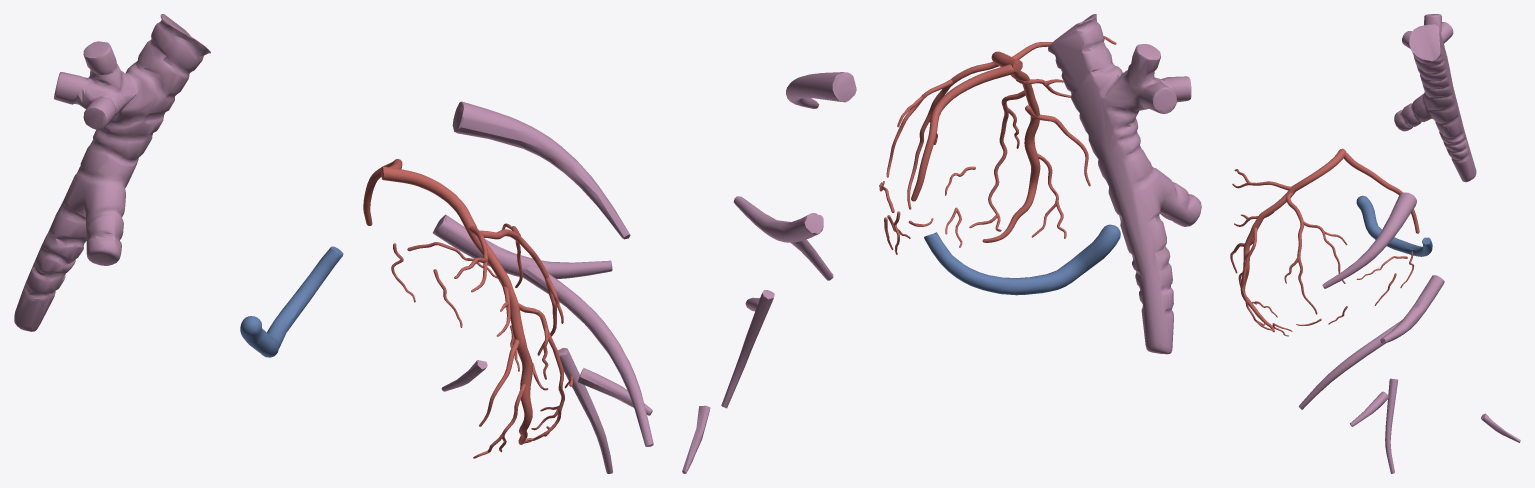
Rendered from thorax-7.glb.
3 views of the same model, side by side, from view 1: azimuth 30°, elevation 25°; view 2: azimuth 150°, elevation 25°; view 3: azimuth 270°, elevation 25° (orthographic). The views are drawn at different scales.
Parts seen in each view (by area): view 1: FJ2539, FJ2540, FJ2631, FJ2536, FJ2655, FJ2535, FJ2538, FJ2537, FJ2642, FJ2635; view 2: FJ2539, FJ2655, FJ2631, FJ2540, FJ2535, FJ2649, FJ2538, FJ2642, FJ2635, FJ2534, FJ2536; view 3: FJ2539, FJ2540, FJ2631, FJ2655, FJ2535, FJ2536, FJ2538, FJ2649, FJ2642, FJ2537, FJ2635.
Boxes of the visible parts, box(x1,y1,x2,y2) form: FJ2539: box(14, 14, 210, 331); FJ2540: box(452, 101, 630, 239); FJ2631: box(381, 166, 532, 444); FJ2536: box(523, 266, 653, 446); FJ2655: box(240, 246, 343, 357); FJ2535: box(433, 214, 612, 279); FJ2538: box(557, 347, 612, 473); FJ2537: box(577, 368, 652, 415); FJ2642: box(480, 229, 556, 355); FJ2635: box(518, 303, 564, 440); FJ2539: box(1048, 14, 1201, 354); FJ2655: box(924, 224, 1120, 295); FJ2631: box(982, 51, 1040, 242); FJ2540: box(786, 72, 856, 108); FJ2535: box(733, 196, 823, 242); FJ2649: box(911, 64, 1014, 201); FJ2538: box(721, 290, 774, 408); FJ2642: box(907, 62, 998, 209); FJ2635: box(988, 90, 1025, 231); FJ2534: box(682, 405, 710, 473); FJ2536: box(790, 239, 833, 280); FJ2539: box(1394, 14, 1476, 182); FJ2540: box(1322, 192, 1416, 288); FJ2631: box(1240, 148, 1346, 332); FJ2655: box(1356, 195, 1432, 256); FJ2535: box(1380, 275, 1444, 343); FJ2536: box(1299, 320, 1401, 409); FJ2538: box(1385, 378, 1398, 473); FJ2649: box(1343, 152, 1419, 233); FJ2642: box(1286, 192, 1317, 314); FJ2537: box(1350, 391, 1388, 426); FJ2635: box(1240, 227, 1265, 325).
Bounding box in the file's own units: 0.1733 × 0.163 × 0.1316.
